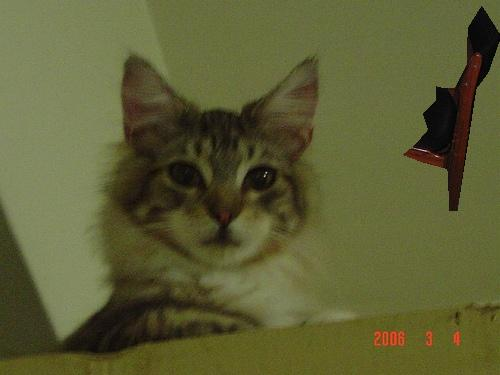tampered: (404, 7, 500, 211)
